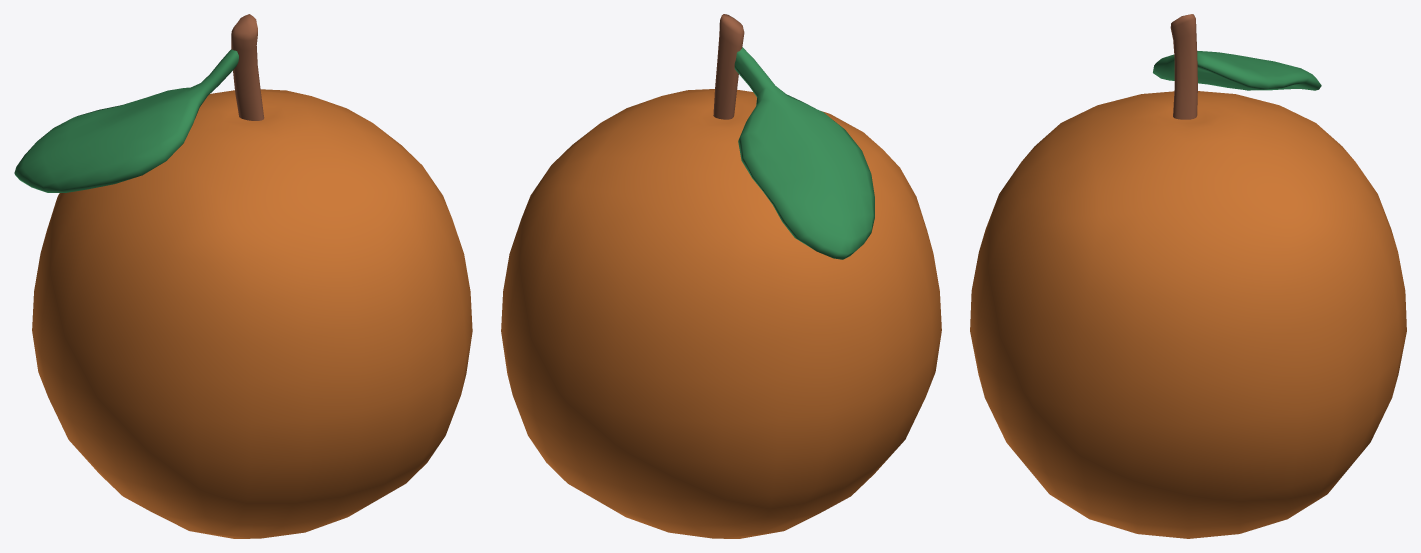
File: Orange_02.dae
3 views of the same model, side by side, from view 1: azimuth 30°, elevation 25°; view 2: azimuth 150°, elevation 25°; view 3: azimuth 270°, elevation 25° (orthographic).
Parts seen in each view (by area): view 1: Orange_02_LOD0; view 2: Orange_02_LOD0; view 3: Orange_02_LOD0.
Part boxes in pixels (x1=…): Orange_02_LOD0: x1=14, y1=14, x2=472, y2=538; Orange_02_LOD0: x1=501, y1=14, x2=941, y2=538; Orange_02_LOD0: x1=970, y1=14, x2=1406, y2=538.
Size of what is drawn, in the model's own units: 3.75 by 3.77 by 4.78.
